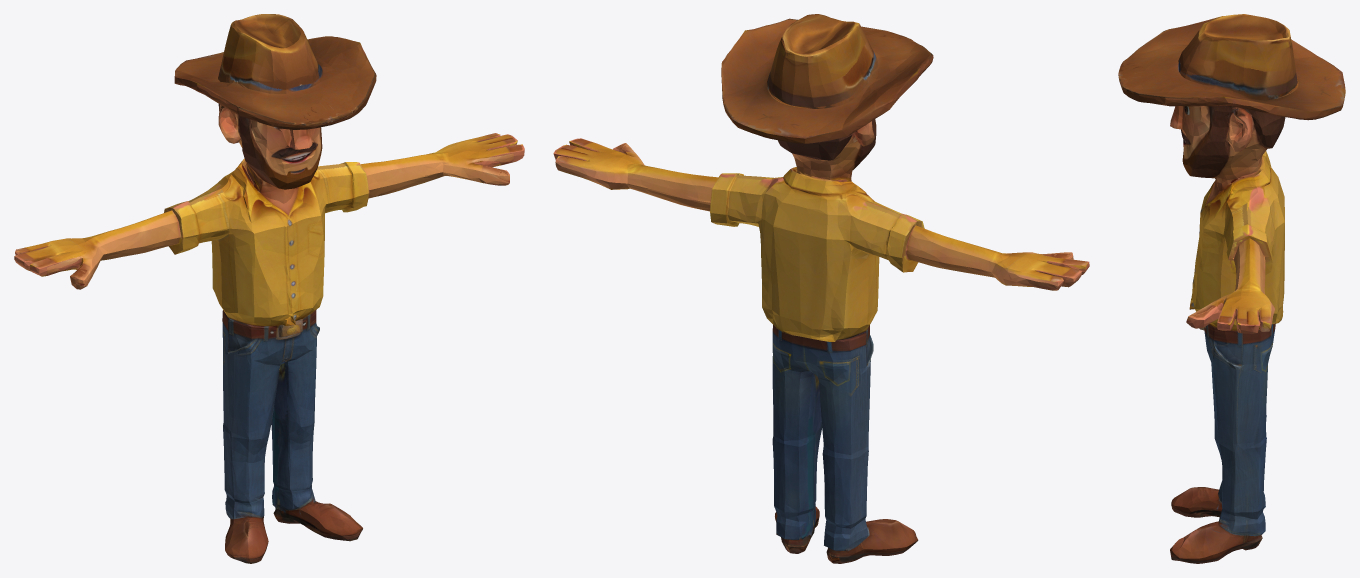
Rendered from Patrick_0422092326_texture.fbx.
The picture shows the model from 3 angles, left to right: view 1: azimuth 30°, elevation 25°; view 2: azimuth 150°, elevation 25°; view 3: azimuth 270°, elevation 25°; orthographic projection. The views are drawn at different scales.
Visible parts, largest first — view 1: temp; view 2: temp; view 3: temp.
Part boxes in pixels (left/top/right/bottom): temp: left=14, top=14, right=524, bottom=563; temp: left=553, top=14, right=1089, bottom=563; temp: left=1118, top=14, right=1345, bottom=563.
Bounding box in the file's own units: 200 × 193 × 78.2.
Materials: 1 (1 with a texture image).
